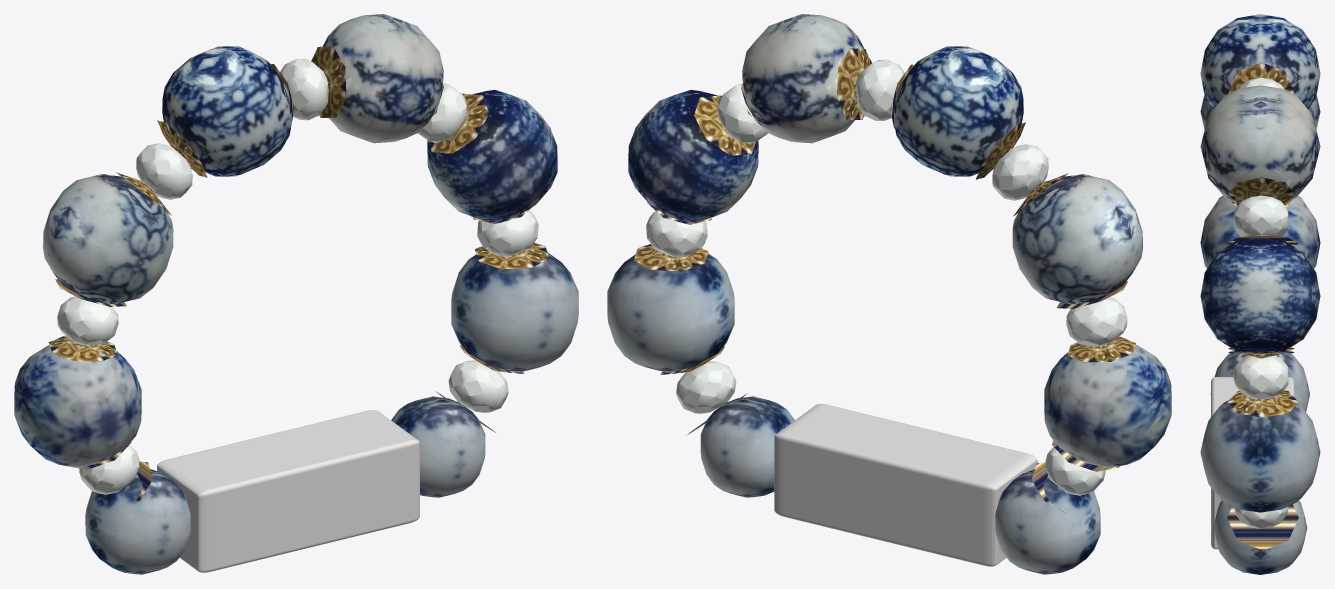
The model's file is bangles.glb.
3 views of the same model, side by side, from view 1: azimuth 30°, elevation 25°; view 2: azimuth 150°, elevation 25°; view 3: azimuth 270°, elevation 25° (orthographic). The views are drawn at different scales.
Visible parts, largest first — view 1: large_beads, brass, small_beads; view 2: large_beads, small_beads, brass; view 3: large_beads, small_beads, brass.
Boxes of the visible parts, x1,y1,x2,y2 form: large_beads: (23,14,578,574); brass: (157,410,419,572); small_beads: (14,46,549,502); large_beads: (607,14,1171,574); small_beads: (634,48,1162,513); brass: (774,404,1037,566); large_beads: (1200,14,1320,574); small_beads: (1227,62,1320,550); brass: (1211,377,1294,549).
Size of the model in its own units: 0.5726 by 0.4947 by 0.117.
Materials: 1 (1 with a texture image).
